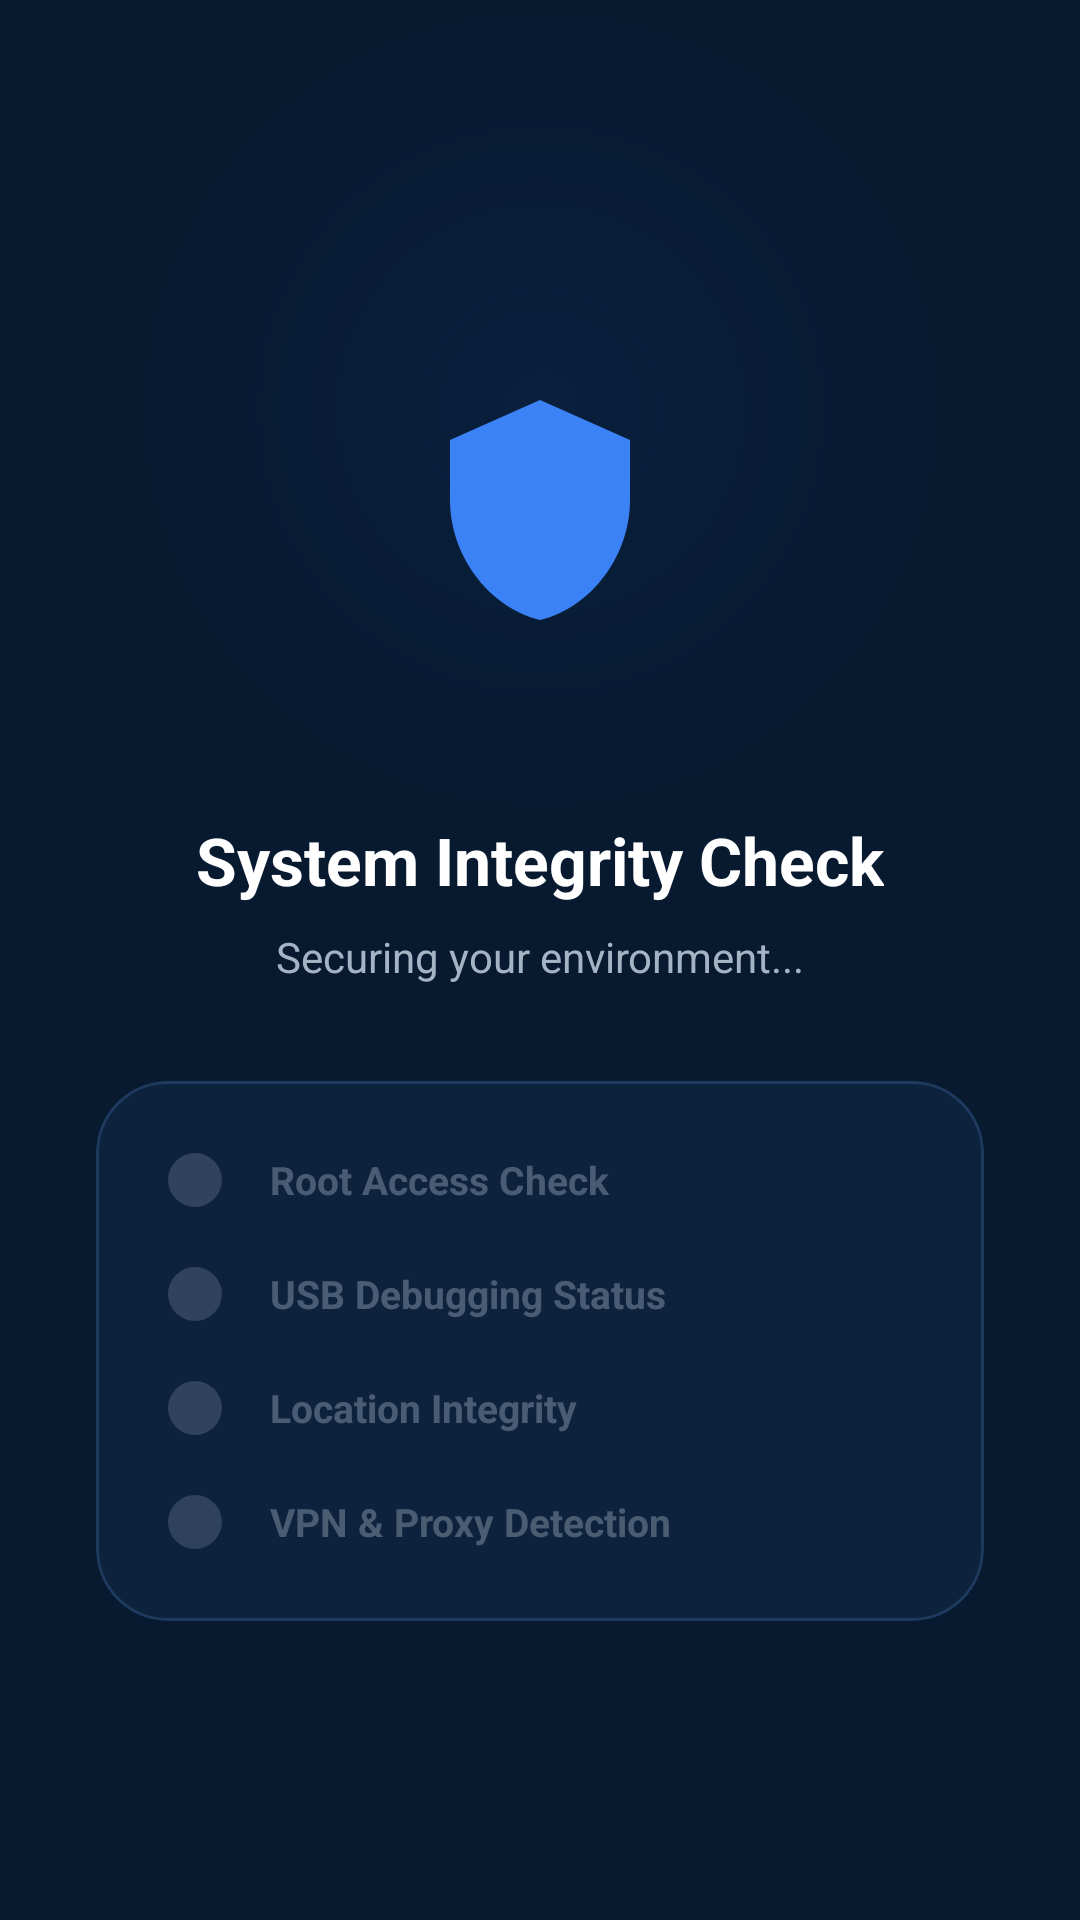

Named icons in this screenshot (1080px x 1920px) and their centers, (x=x, y=y):
shield: (x=540, y=510)
